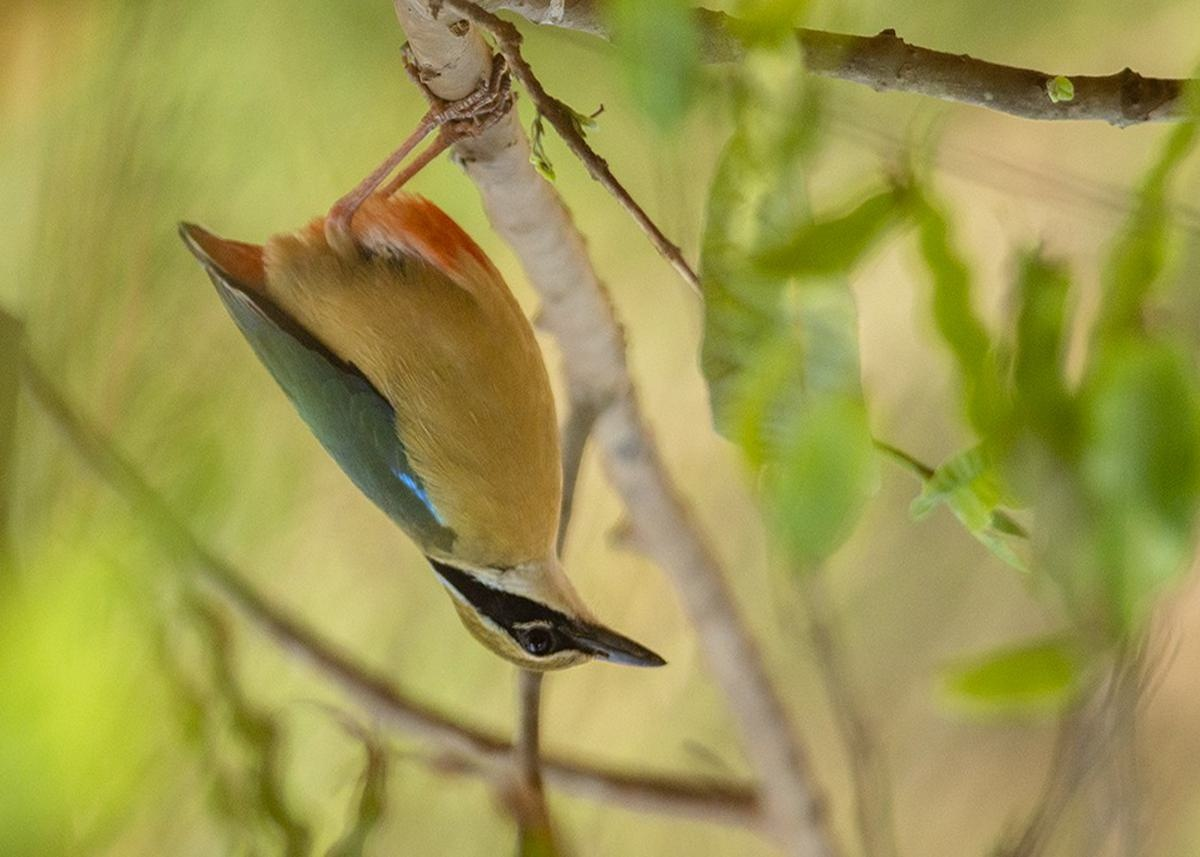pitta: (186, 129, 688, 699)
